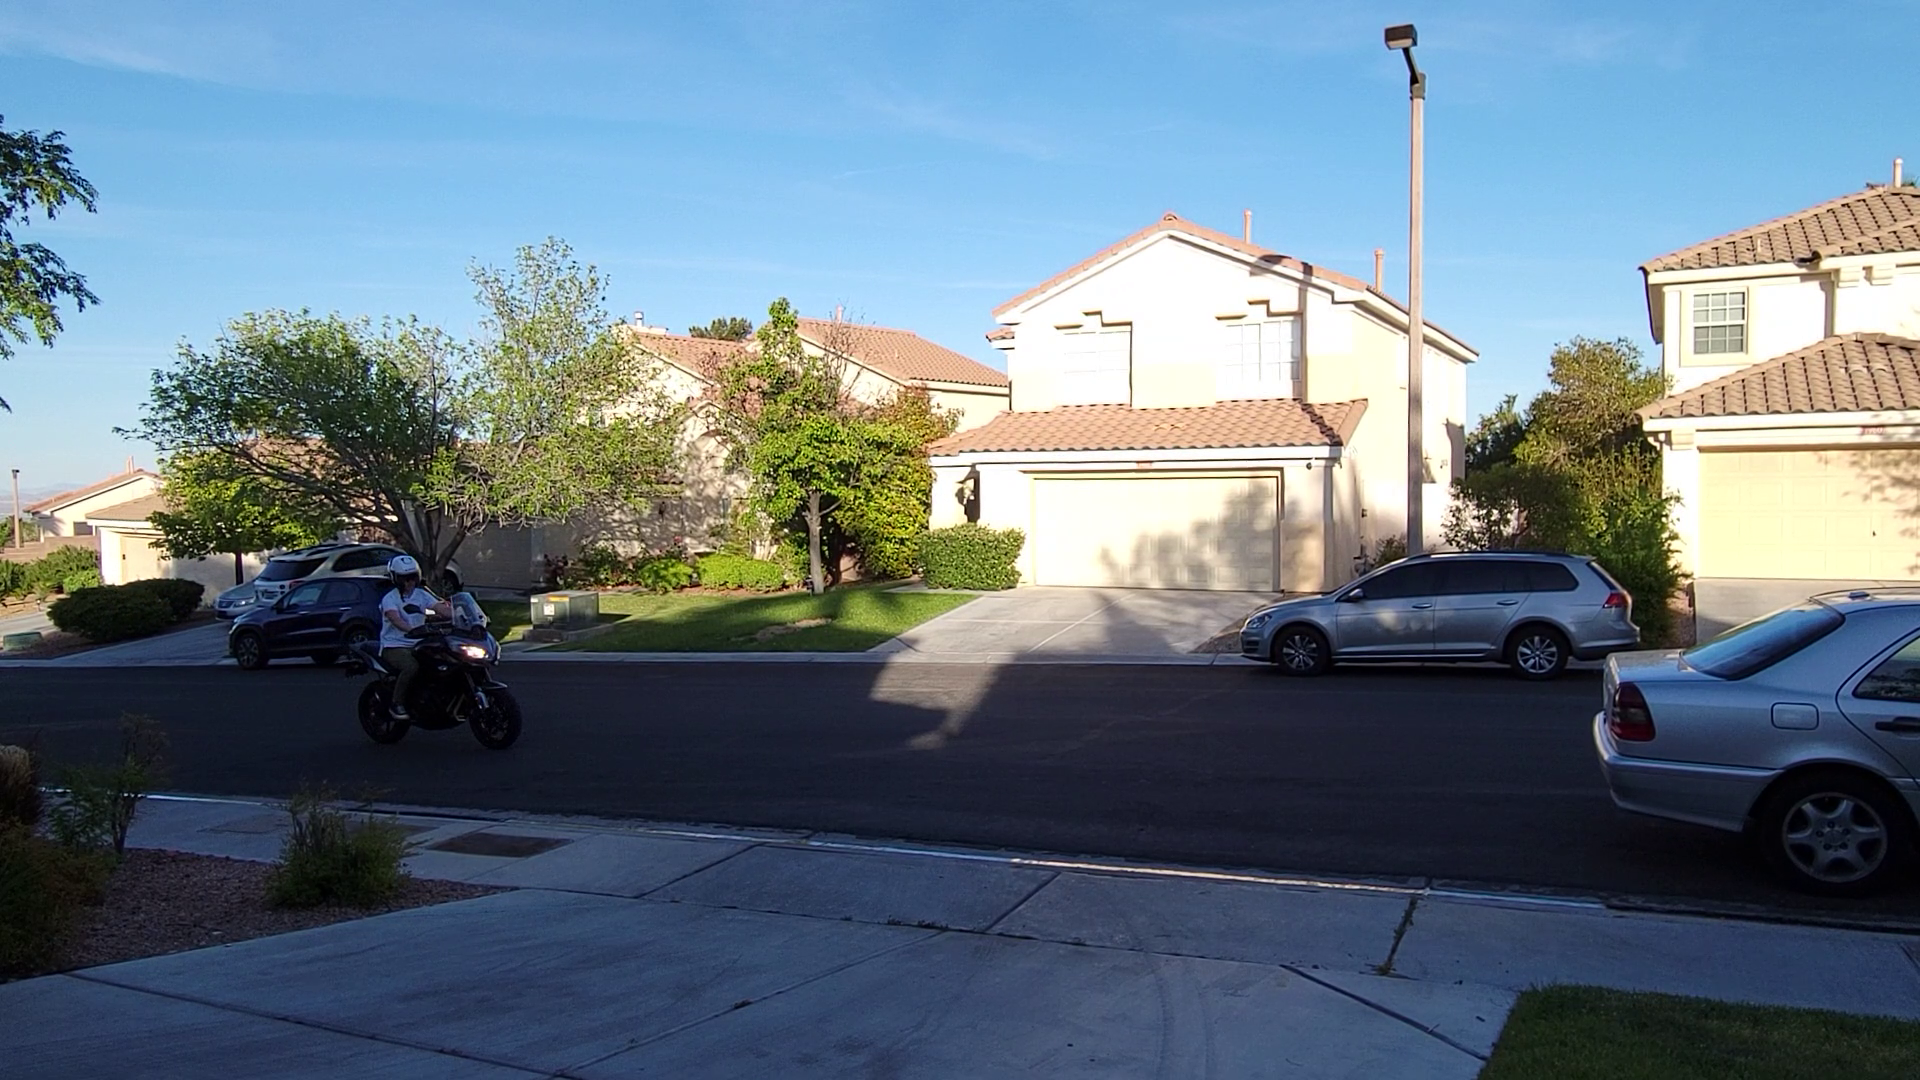my bike: (335, 553, 527, 752)
